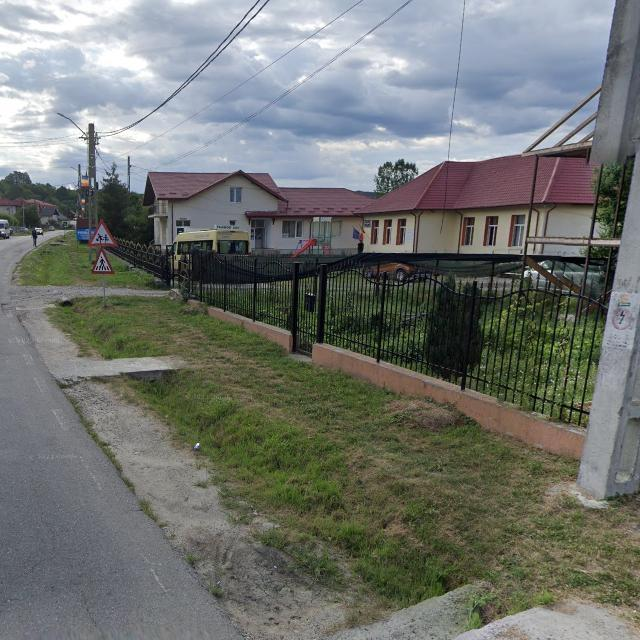warn_crosswalk: (91, 247, 115, 274)
